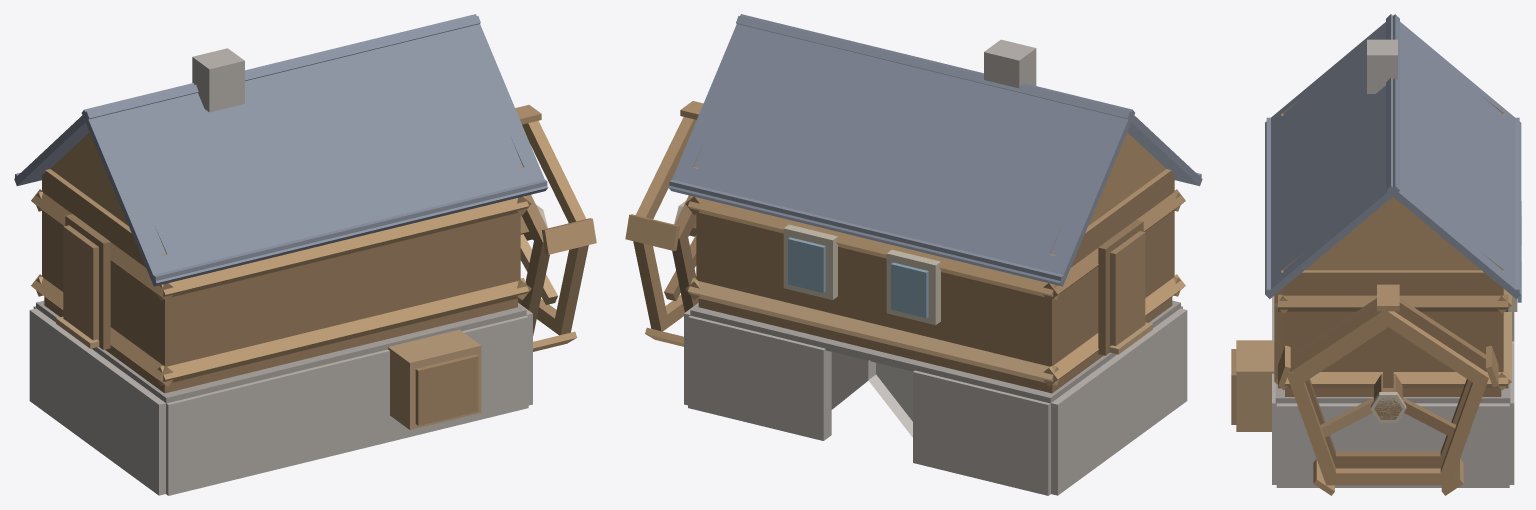
The picture shows the model from 3 angles, left to right: view 1: azimuth 30°, elevation 25°; view 2: azimuth 150°, elevation 25°; view 3: azimuth 270°, elevation 25°; orthographic projection. The views are drawn at different scales.
Visible parts, largest first — view 1: Body, WheelPivot; view 2: Body, WheelPivot; view 3: Body, WheelPivot.
Part boxes in pixels (<box>): Body: <box>14,14,548,495</box>; WheelPivot: <box>515,105,596,351</box>; Body: <box>668,14,1202,495</box>; WheelPivot: <box>625,101,703,346</box>; Body: <box>1231,14,1521,487</box>; WheelPivot: <box>1278,284,1498,495</box>.
Bounding box in the file's own units: 8.02 × 6.1 × 4.89.
